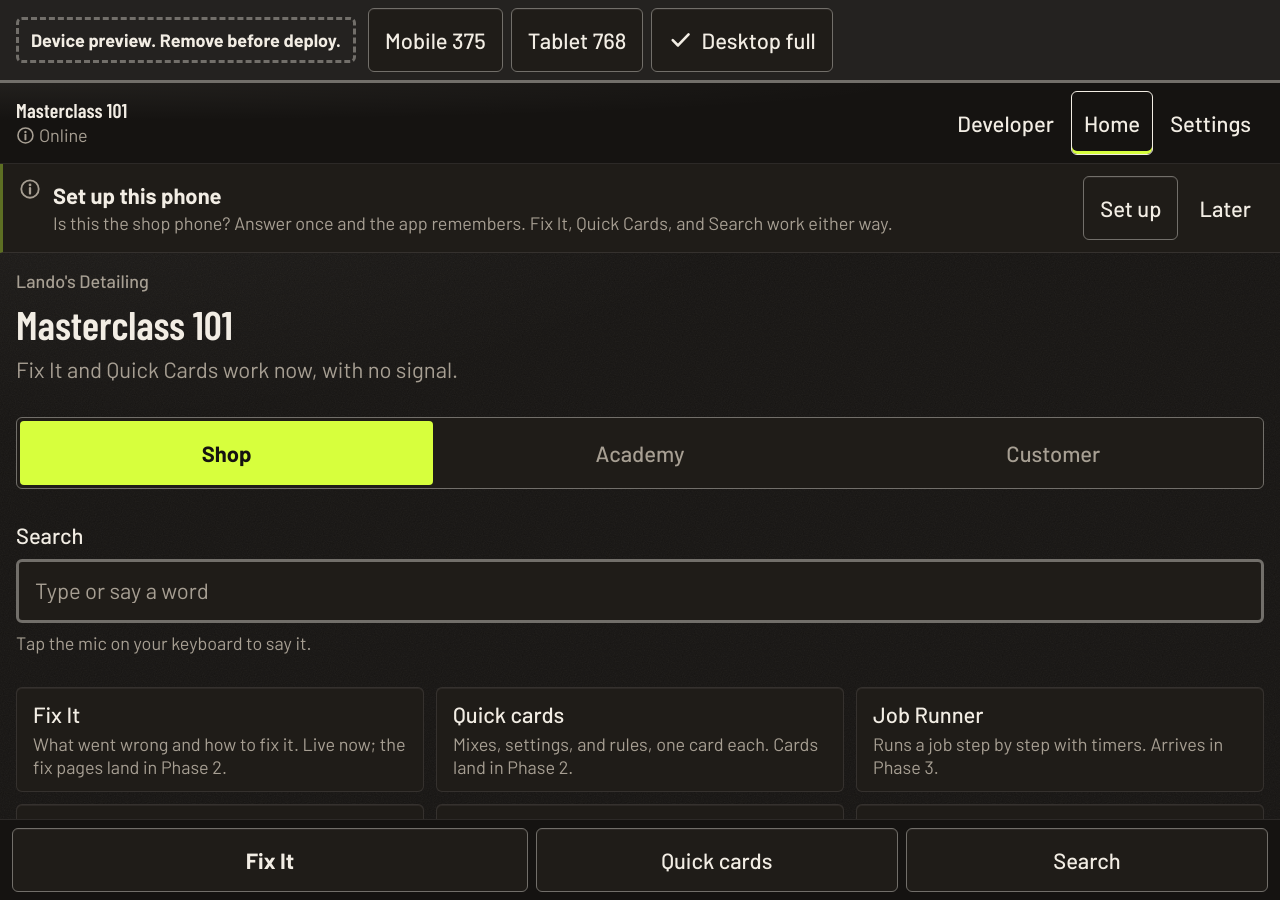
Scenario: modes and densities › a study phone cannot turn Customer View on: the reason shows with a way to set up, and nothing changes
Expected: the link "Fix It" is shown, x1=12 y1=828 x2=528 y2=892
Click the radio button labelled "Customer".
click(1053, 453)  # box x1=1006 y1=440 x2=1100 y2=466
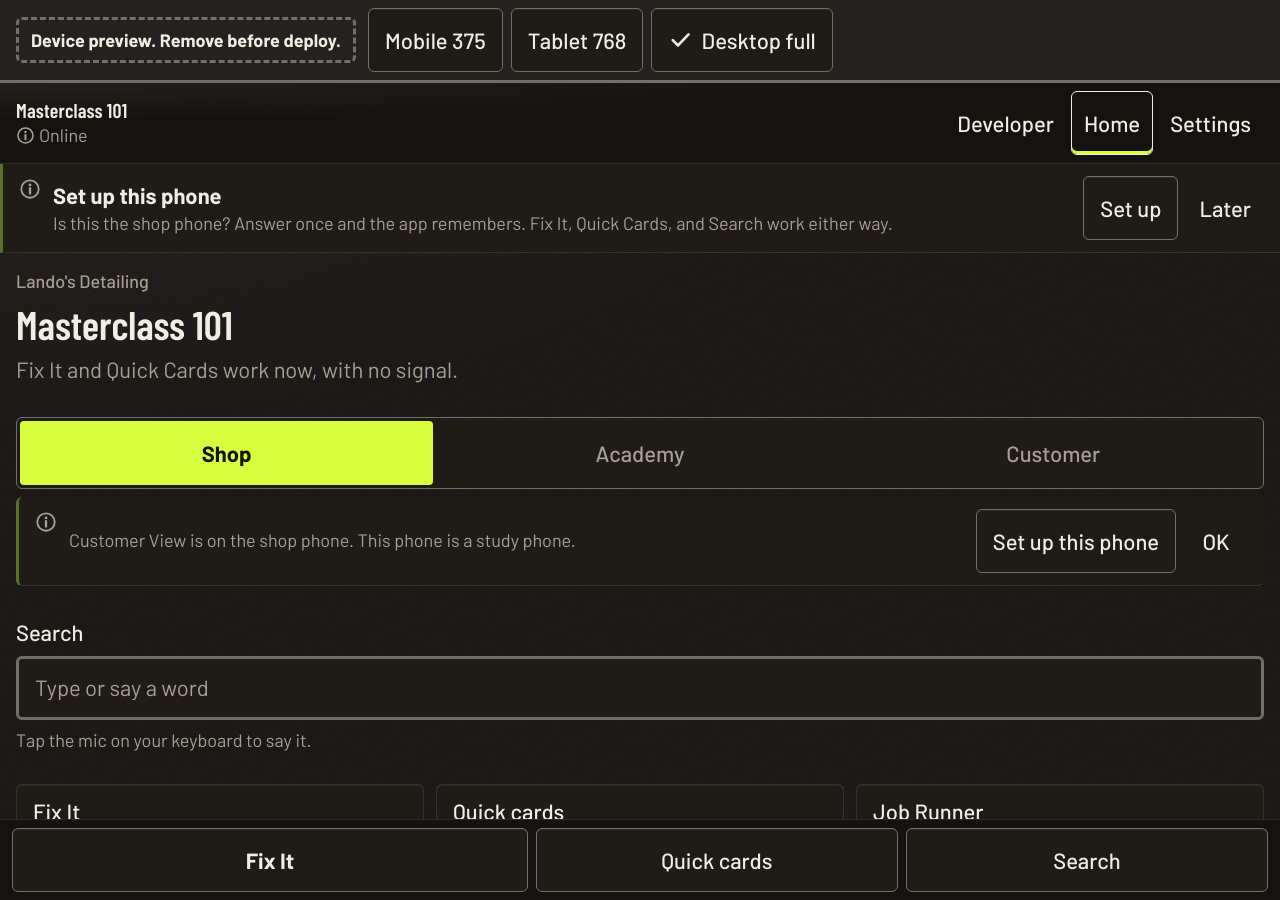
Expected: the link "Fix It" is shown, x1=12 y1=828 x2=528 y2=892
Now the text "This phone is a study phone" is shown, box x1=69 y1=529 x2=576 y2=551
Now the button "Set up this phone" is shown, box x1=976 y1=509 x2=1176 y2=573
